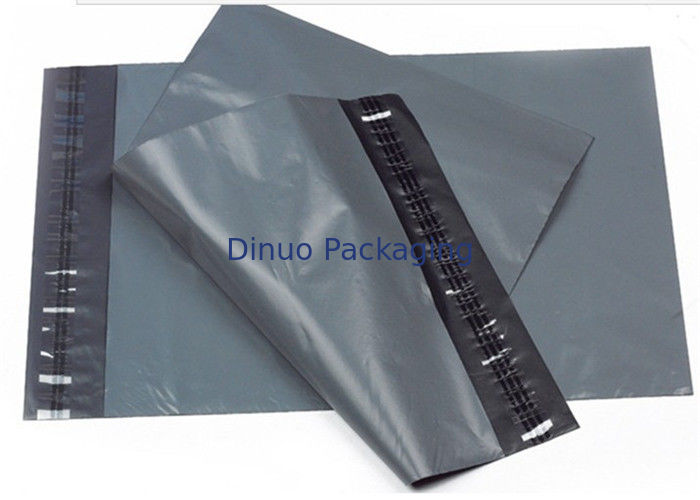Parcel: (24, 7, 689, 418), (118, 95, 578, 484)
